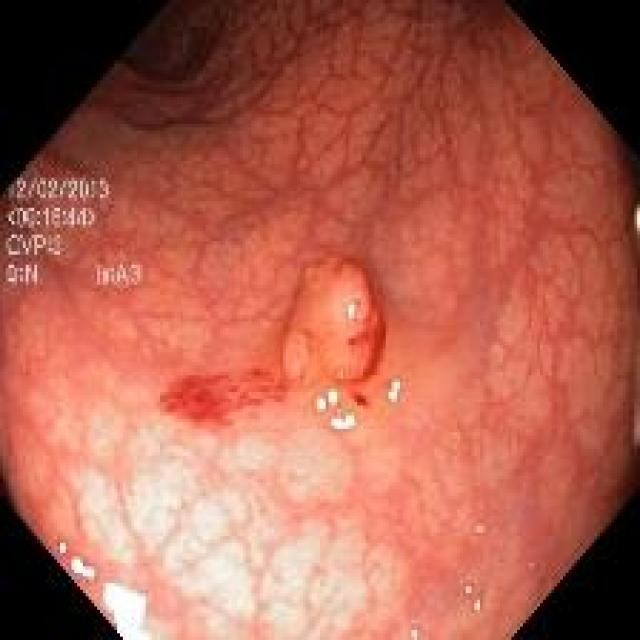Polyps: (282, 258, 385, 384)
